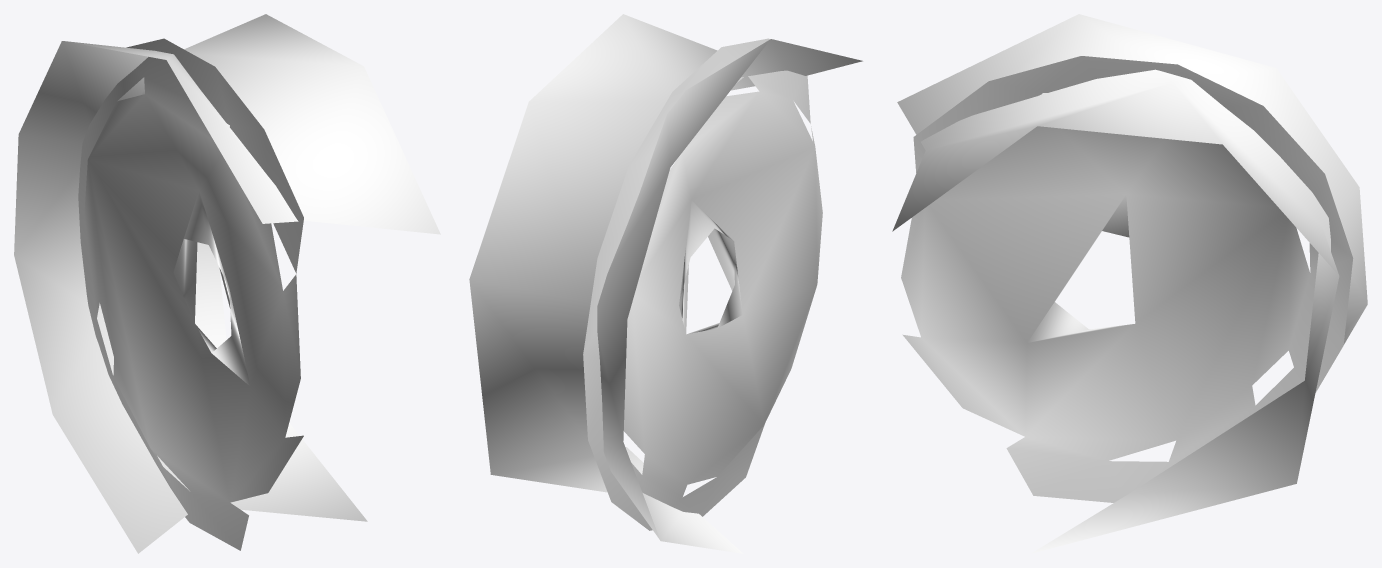
3 views of the same model, side by side, from view 1: azimuth 30°, elevation 25°; view 2: azimuth 150°, elevation 25°; view 3: azimuth 270°, elevation 25° (orthographic). The views are drawn at different scales.
Size of the model in its own units: 0.1418 by 0.3965 by 0.3516.
Materials: 1 (1 with a texture image).
